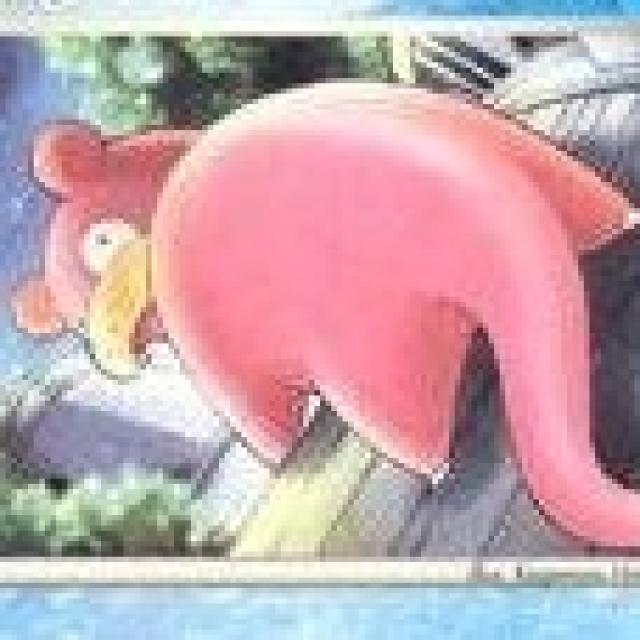Slowpoke: (47, 92, 618, 474)
